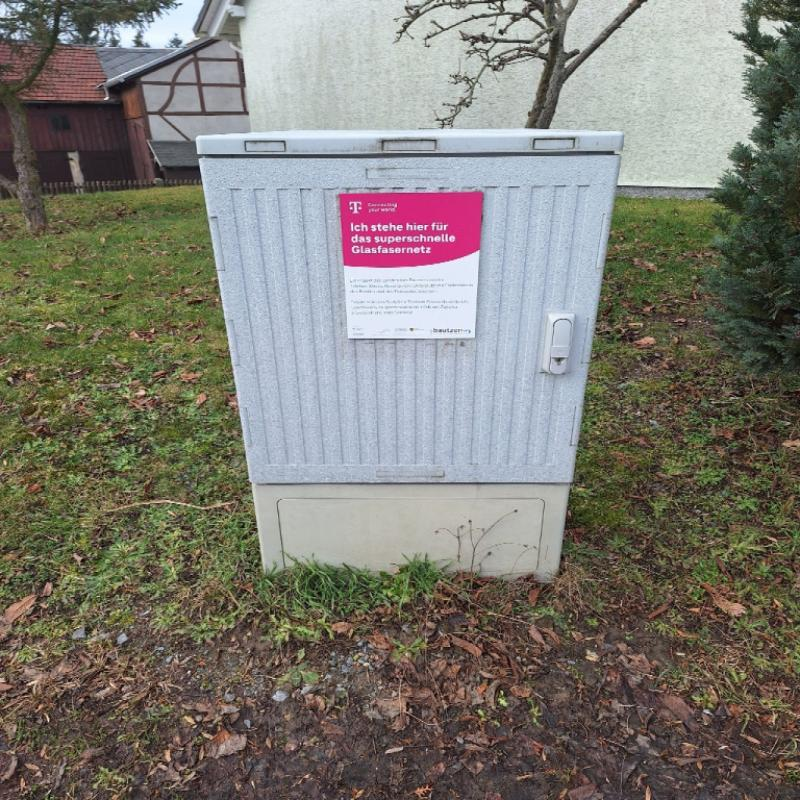NT-Gehause: (199, 126, 621, 579)
Steaker: (342, 191, 479, 341)
